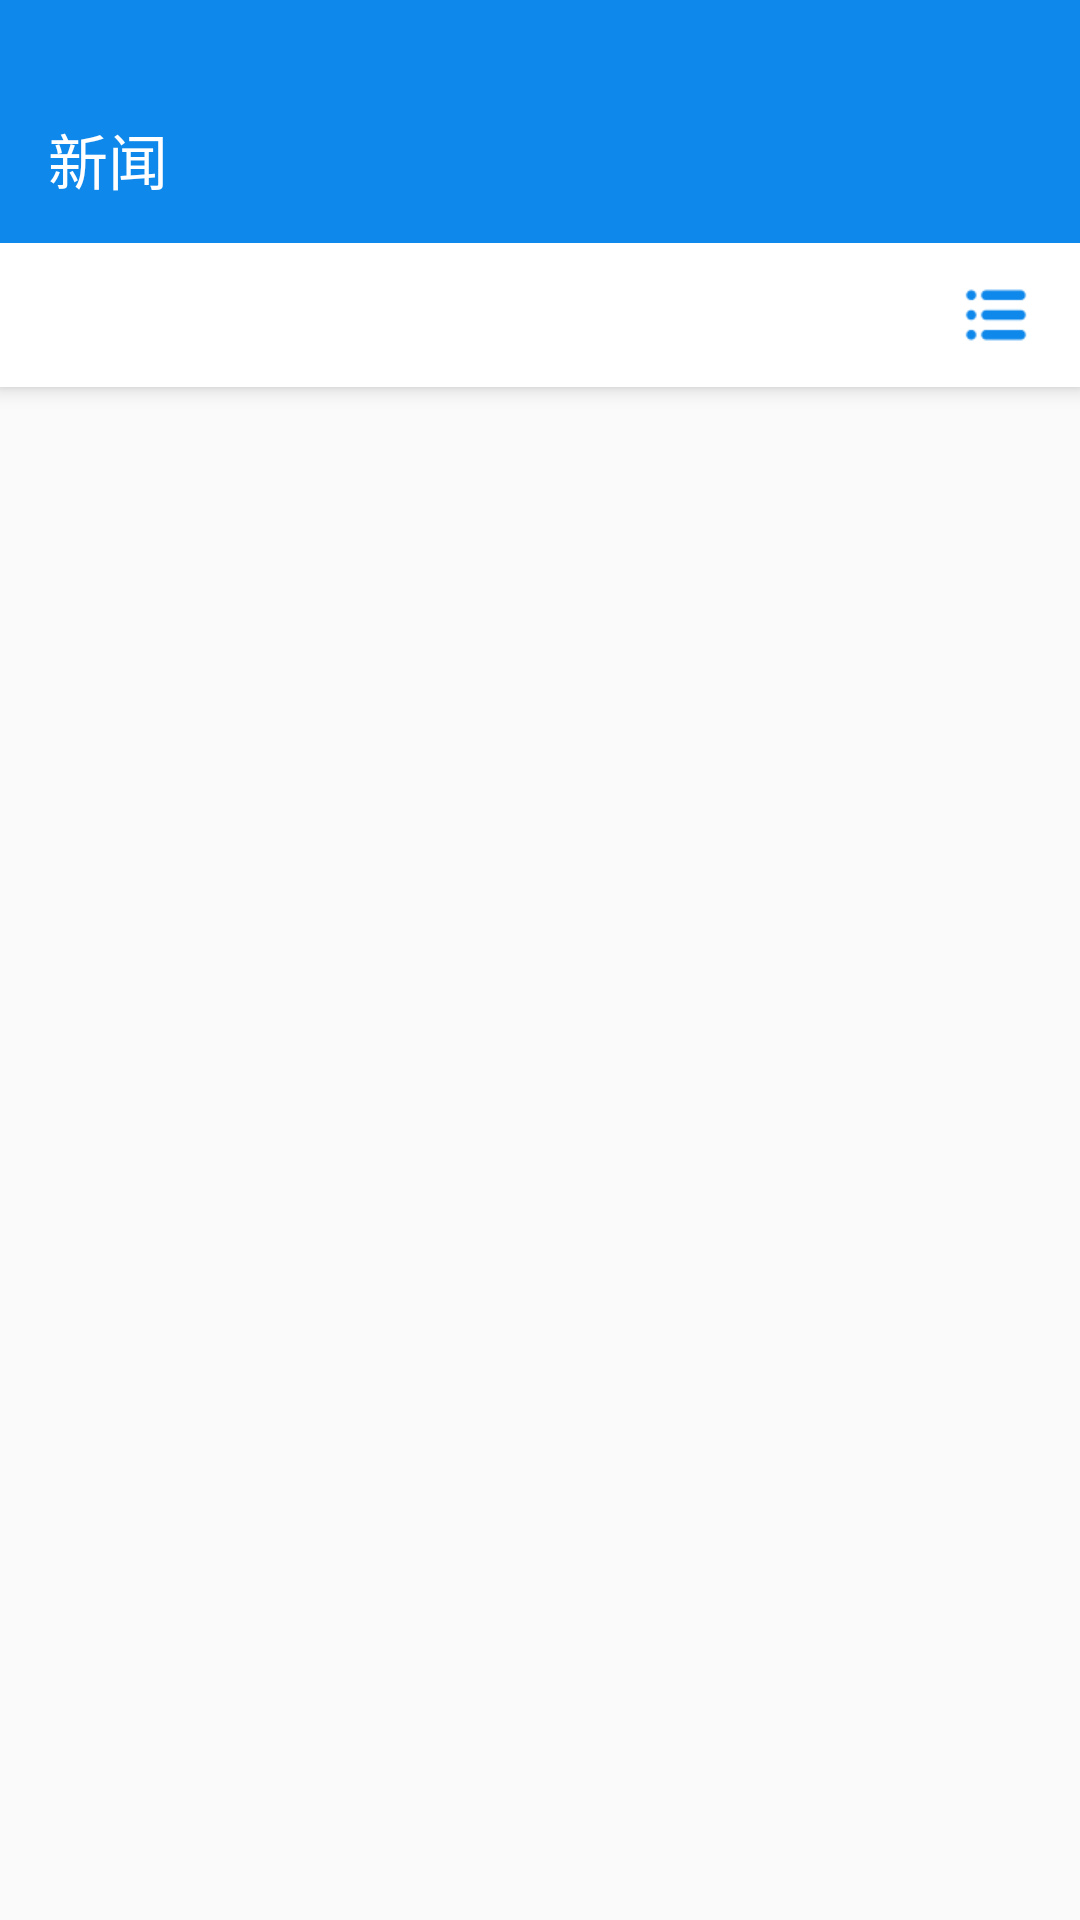

Named icons in this screenshot (1080 × 1920) and their bounding boxes, [x1,y1,x2,y2]:
news category: [965,289,1027,341]
